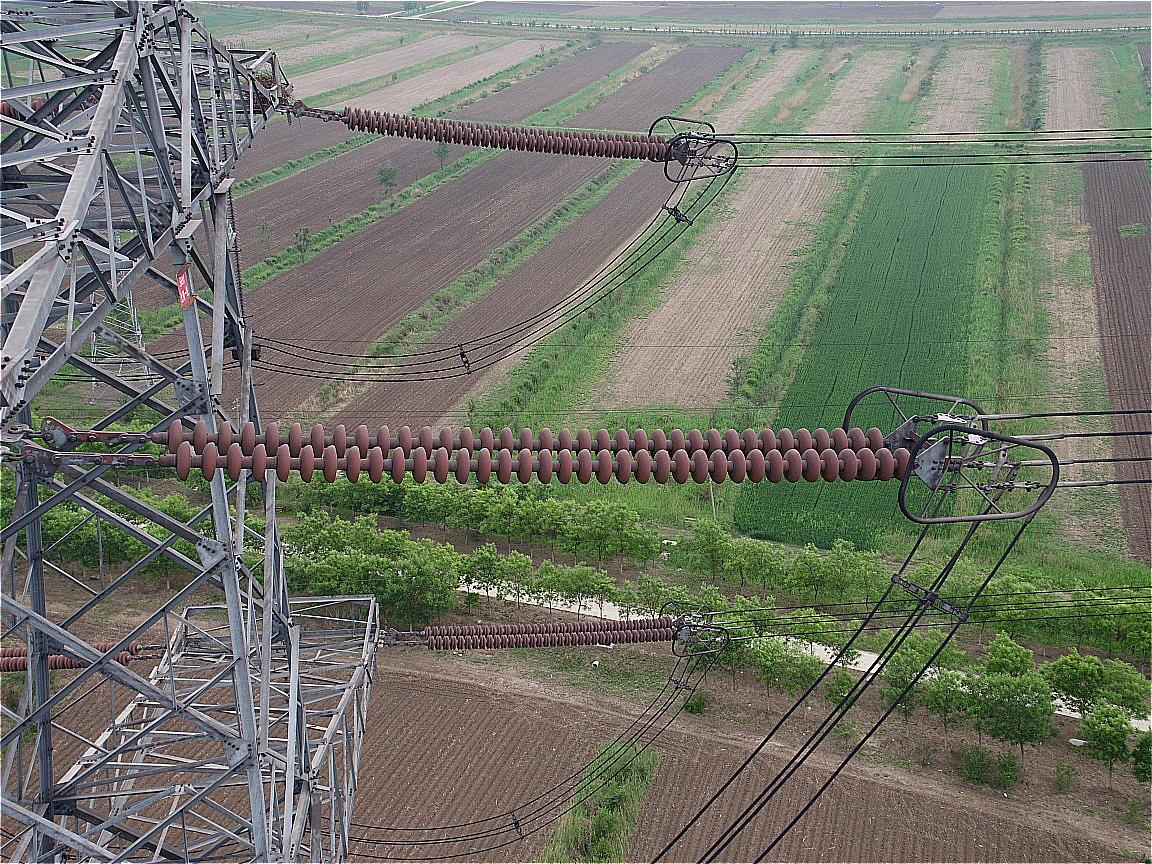insultor1: (168, 417, 913, 481)
insultor2: (342, 103, 667, 163), (422, 615, 676, 653)
